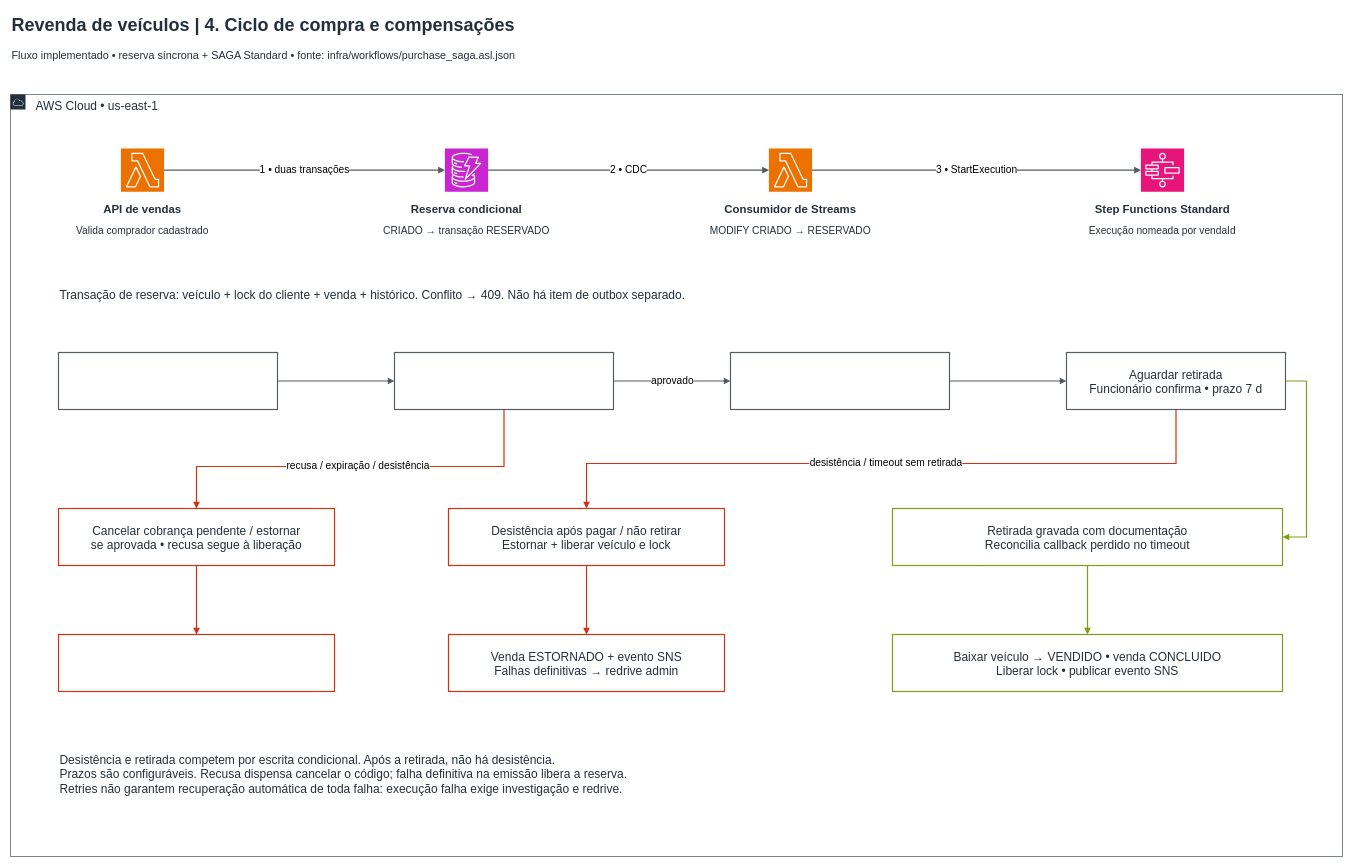
This 1353x867 diagram has some shape labels left out. Here are the shapes that lost their labels. From the top down, the centre of each, then its label:
(x=168, y=381): Emitir código Pix Marcar AGUARDANDO_PAGAMENTO
(x=504, y=381): Aguardar pagamento Callback ou prazo de 48 h
(x=840, y=381): Venda PAGO Veículo AGUARDANDO_RETIRADA
(x=196, y=663): Liberar veículo e lock Venda CANCELADO + evento SNS
